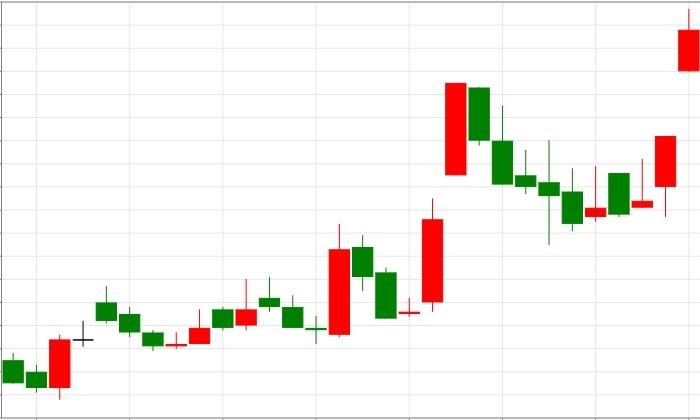three_white_soldiers_rise: (444, 9, 700, 246)
